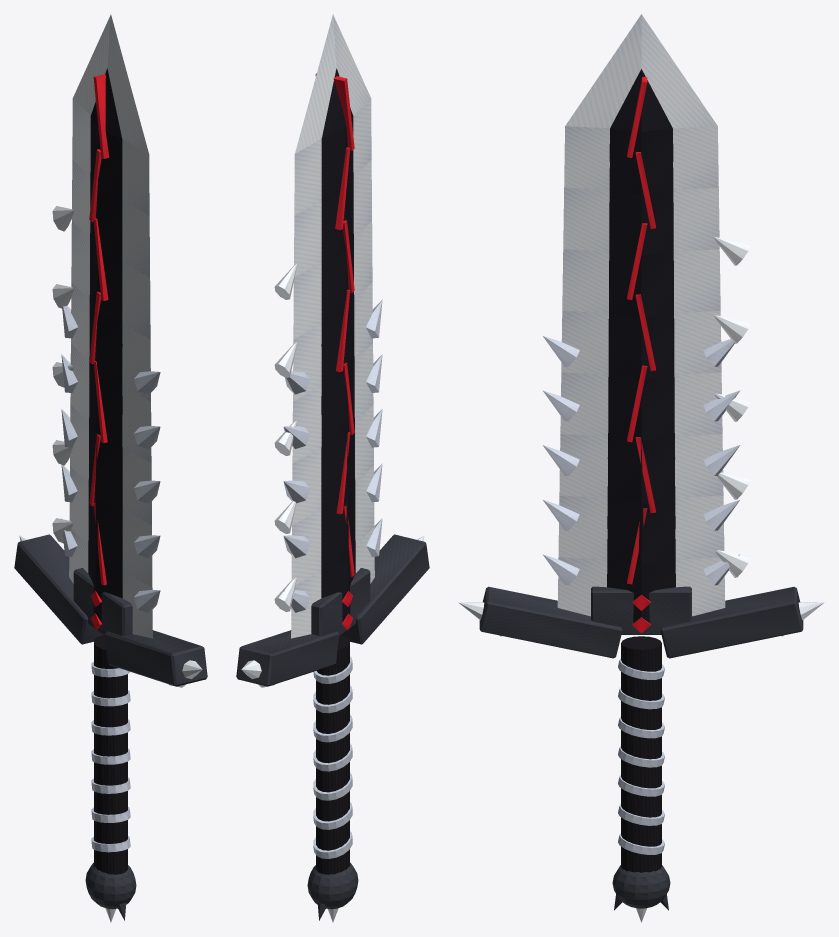
Rendered from Devourer.obj.
3 renders of one model, left to right at view 1: azimuth 30°, elevation 25°; view 2: azimuth 150°, elevation 25°; view 3: azimuth 270°, elevation 25°, orthographic.
Visible parts, largest first — view 1: Devourer; view 2: Devourer; view 3: Devourer.
Boxes of the visible parts, x1=… form: Devourer: x1=14, y1=14, x2=207, y2=922; Devourer: x1=236, y1=14, x2=429, y2=922; Devourer: x1=458, y1=14, x2=824, y2=922.
Size of the model in its own units: 0.4401 by 9.32 by 3.41.
1 material, 1 textured.
